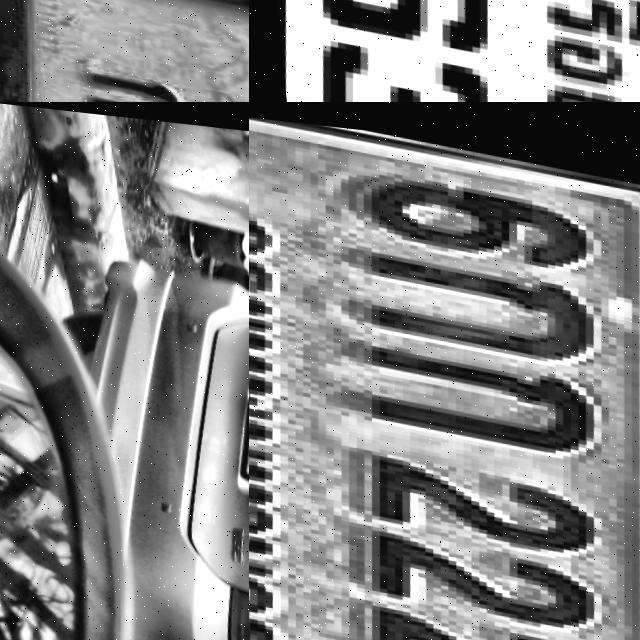license-plate: (249, 102, 640, 640), (249, 0, 640, 102), (0, 0, 249, 102), (221, 382, 249, 489)
